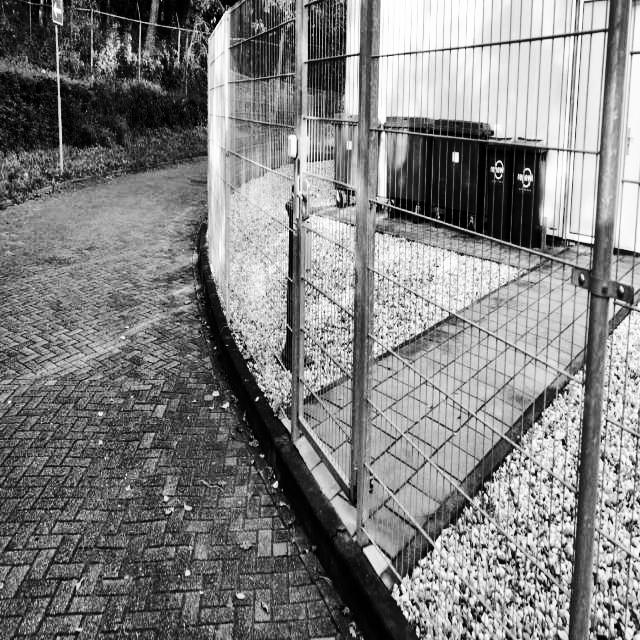fences: (206, 0, 639, 625)
